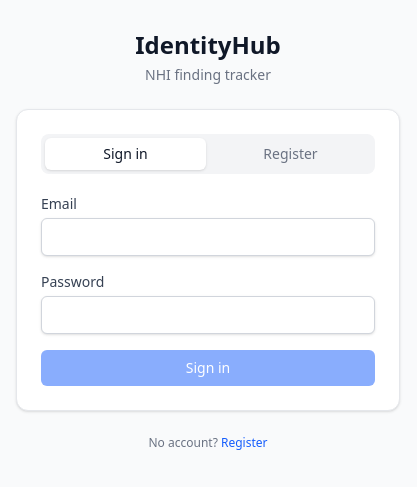
Test case: LoginPage — error mapping on submit › shows inline email error for EMAIL_TAKEN in register mode
Step 1. Click the button "Register" → (290, 154), box [210,138,371,170]
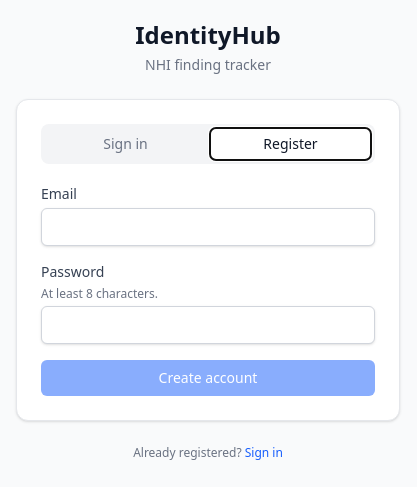
Step 2. Type "taken@example.com" into the field labelled "Email" → (208, 227), box [41,208,375,246]
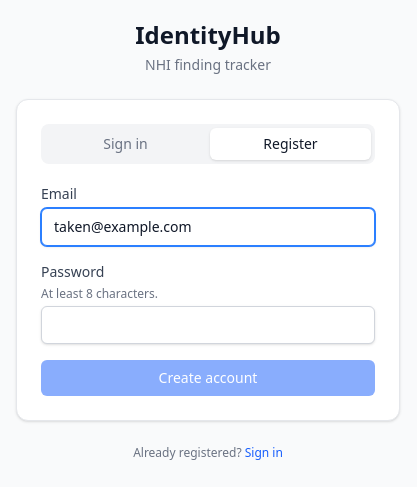
Step 3. Type "password123" into the password field labelled "Password" → (208, 325), box [41,306,375,344]
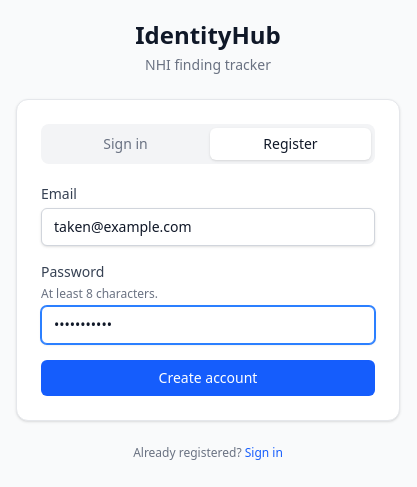
Step 4. Click the button "Create account" → (208, 378), box [41,360,375,396]
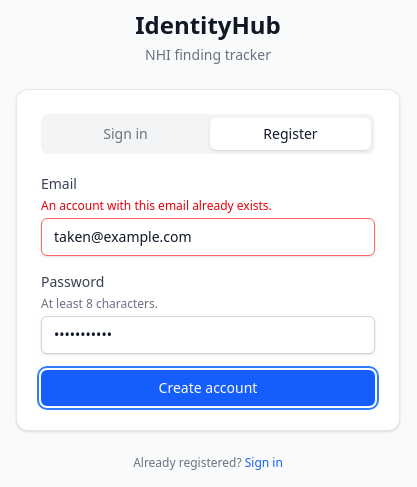
Check: the text "An account with this email already exists." is shown, box [41,197,272,214]
